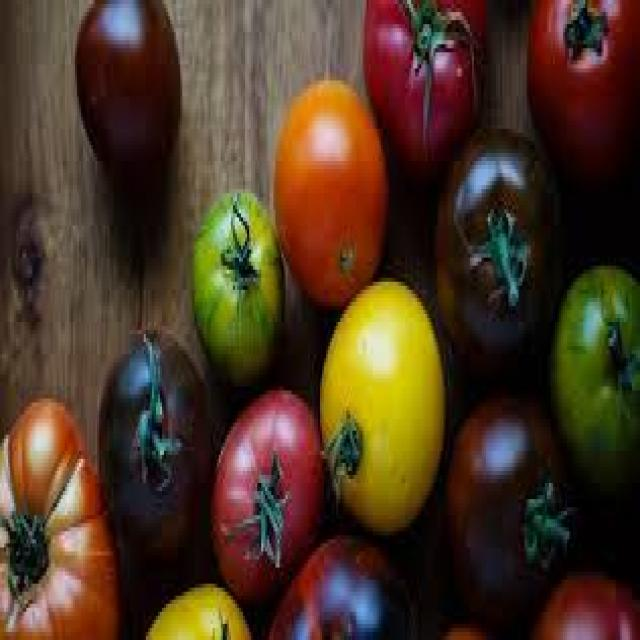organic waste: (316, 270, 443, 535), (433, 125, 559, 370), (0, 394, 117, 635), (446, 382, 567, 612), (95, 326, 209, 564), (269, 76, 383, 302), (209, 386, 322, 604), (525, 0, 638, 197), (545, 254, 638, 487), (363, 0, 484, 169), (71, 0, 178, 185), (190, 185, 284, 378), (264, 535, 422, 636), (531, 559, 638, 636), (140, 576, 251, 636)
